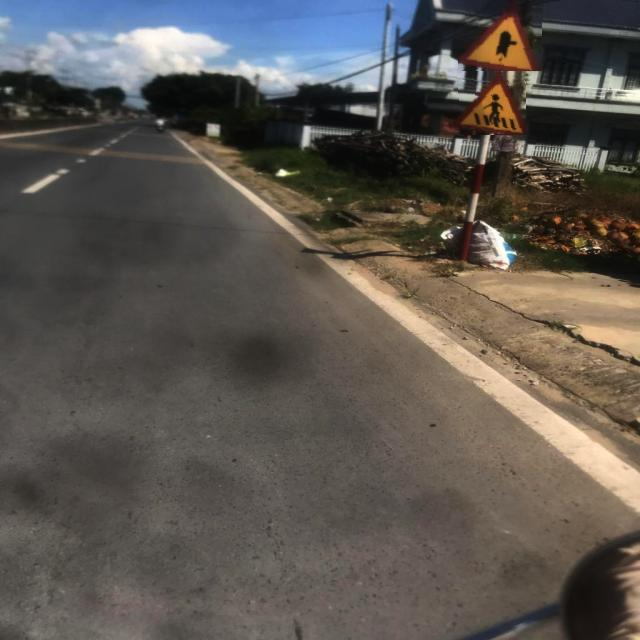chu_y_nguoi_di_bo_cat_ngang: (448, 71, 526, 135)
giao_nhau_voi_duong_khong_uu_tien: (458, 2, 543, 71)
